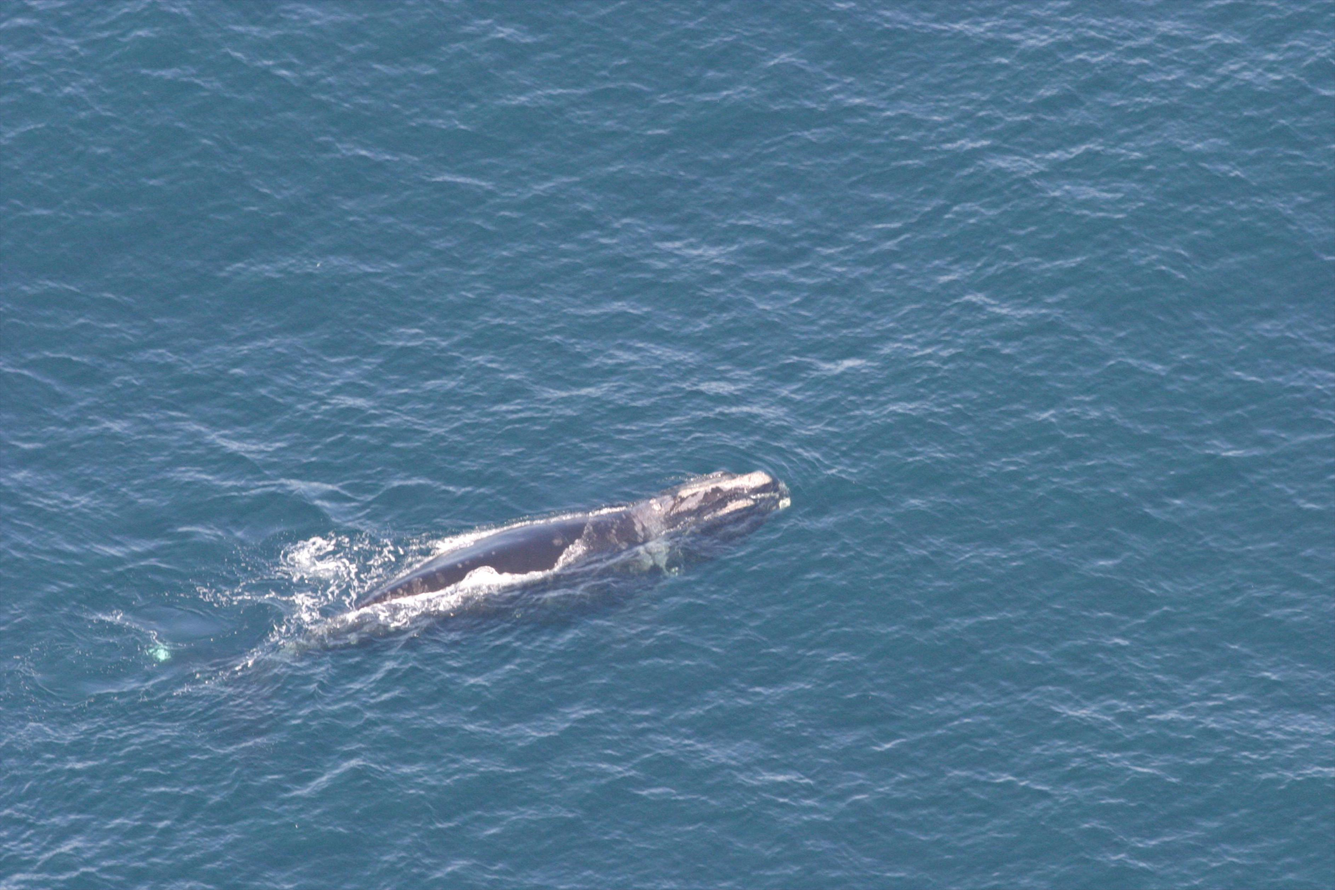whale: (81, 454, 801, 782)
